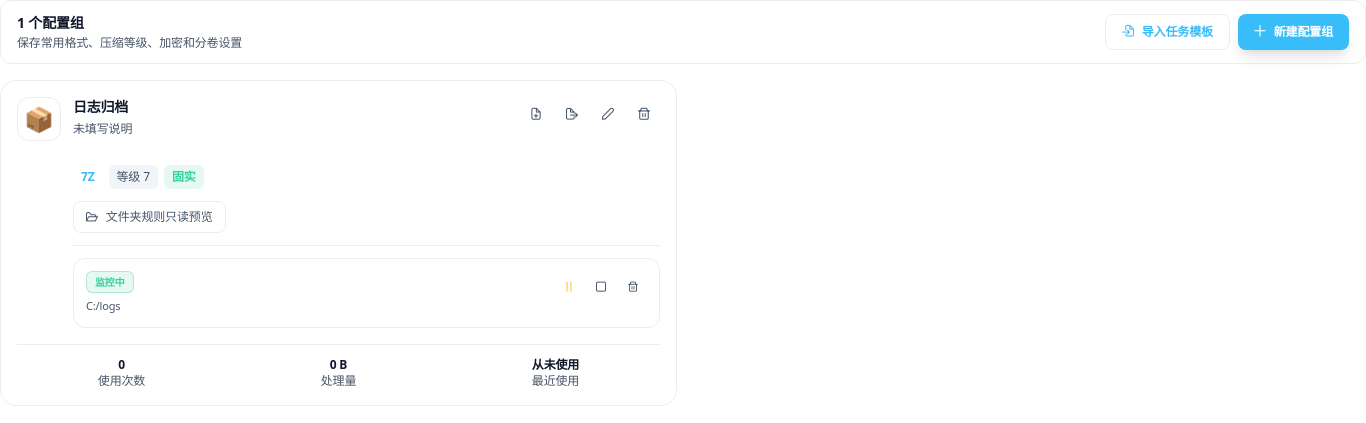
Test: ProfileManager › renders and pauses an active persisted watch-folder authorization
Expected: the element with test id "watch-folder-registration-watch-1" shows "监控中", [95,275,125,289]
Click the button with test id "pause-watch-folder-watch-1".
click(569, 285)  # box [555,271,583,299]
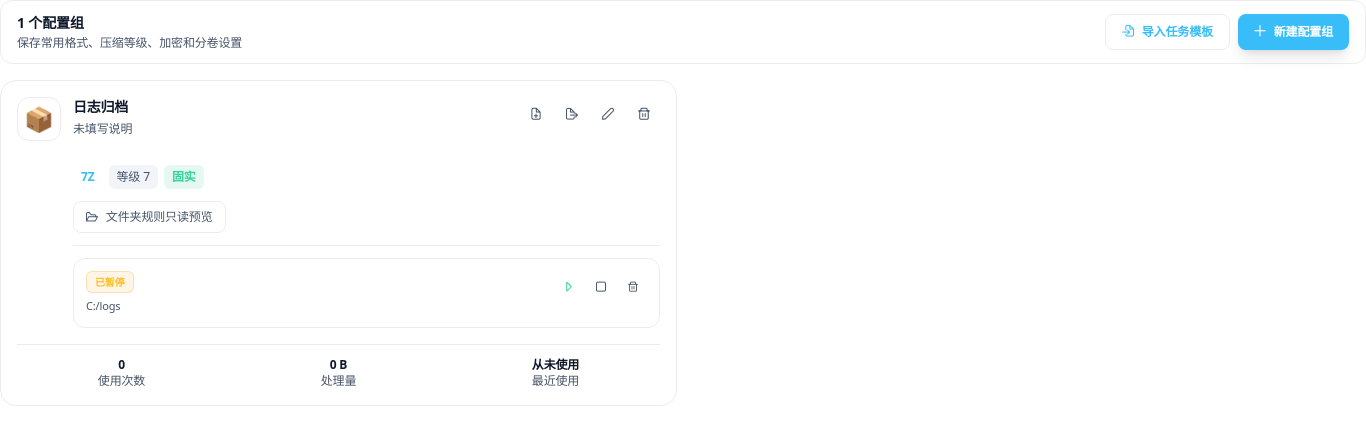
Expected: the element with test id "watch-folder-registration-watch-1" shows "已暂停", [95,275,125,289]
